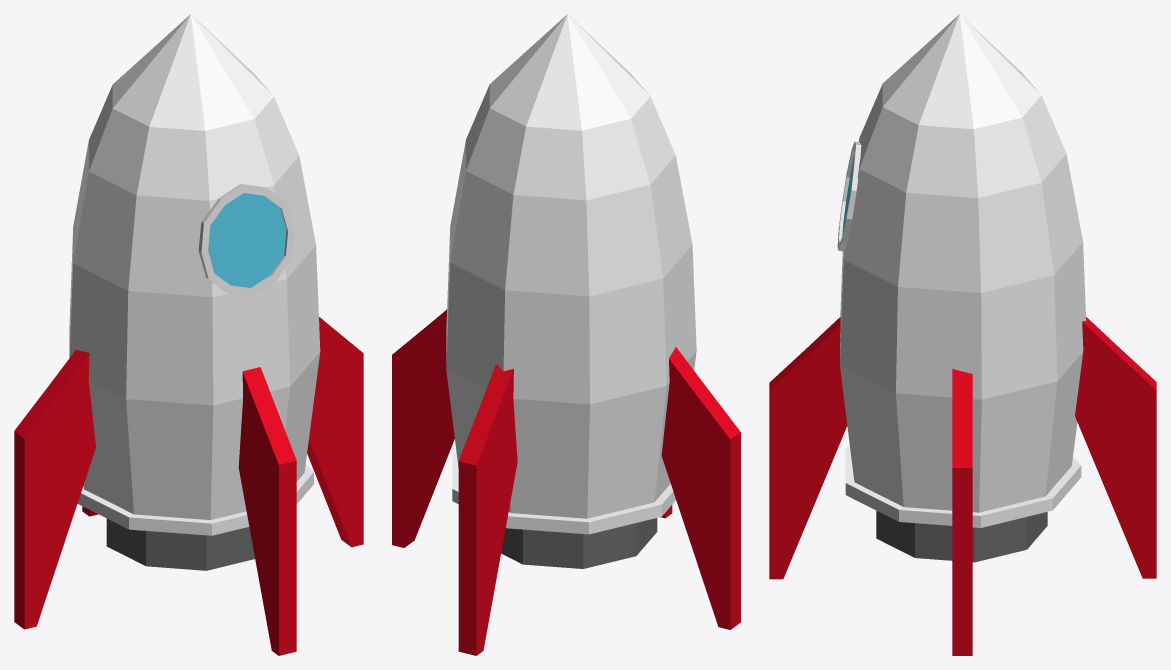
The model's file is Rocket.fbx.
3 views of the same model, side by side, from view 1: azimuth 30°, elevation 25°; view 2: azimuth 150°, elevation 25°; view 3: azimuth 270°, elevation 25° (orthographic).
Visible parts, largest first — view 1: Sphere, Sphere.002, Sphere.003, Sphere.001, Circle.001, Circle; view 2: Sphere, Sphere.002, Sphere.004, Sphere.001; view 3: Sphere, Sphere.004, Sphere.003, Sphere.001, Circle.
Boxes of the visible parts, bbox=[...] form: Sphere: bbox=[69, 14, 320, 570]; Sphere.002: bbox=[14, 350, 95, 629]; Sphere.003: bbox=[238, 367, 296, 655]; Sphere.001: bbox=[307, 317, 363, 547]; Circle.001: bbox=[208, 193, 286, 287]; Circle: bbox=[198, 184, 294, 296]; Sphere: bbox=[446, 14, 696, 568]; Sphere.002: bbox=[661, 347, 740, 629]; Sphere.004: bbox=[458, 364, 517, 655]; Sphere.001: bbox=[392, 309, 454, 547]; Sphere: bbox=[840, 14, 1086, 562]; Sphere.004: bbox=[1075, 317, 1156, 578]; Sphere.003: bbox=[769, 317, 847, 579]; Sphere.001: bbox=[952, 369, 972, 655]; Circle: bbox=[837, 141, 861, 251].
Bounding box in the file's own units: 325 × 523 × 326.
